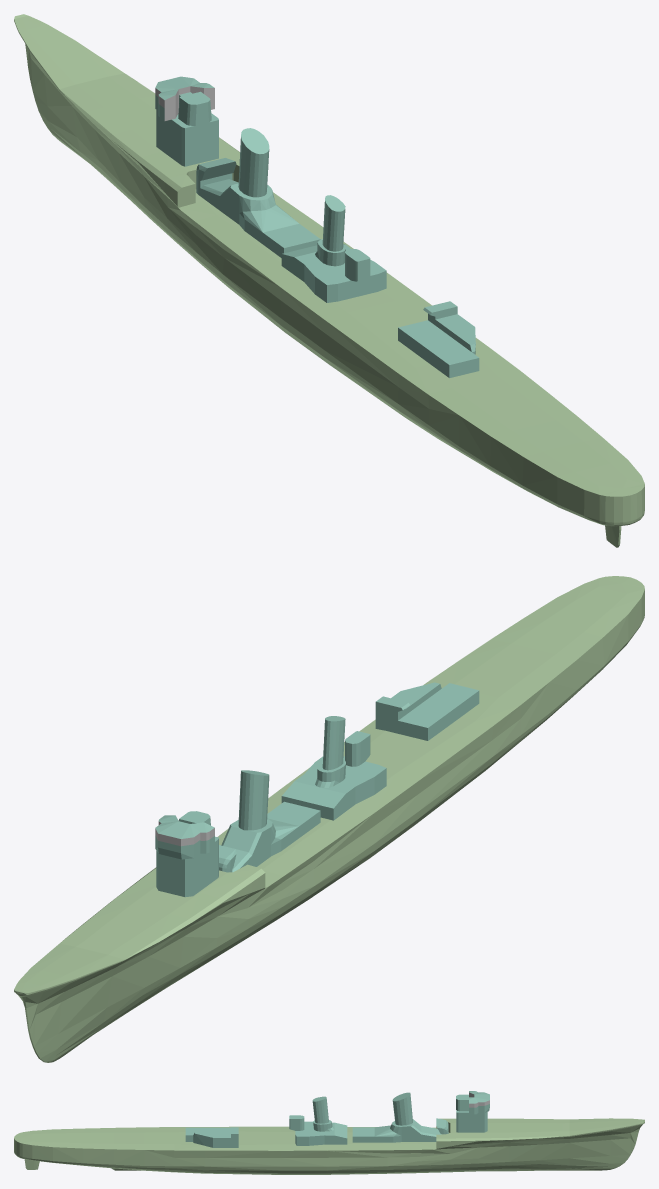
Rendered from PJSD207_armor.glb.
The picture shows the model from 3 angles, top to bottom: view 1: azimuth 30°, elevation 25°; view 2: azimuth 150°, elevation 25°; view 3: azimuth 270°, elevation 25°; orthographic projection. The views are drawn at different scales.
Visible parts, largest first — view 1: armor; view 2: armor; view 3: armor.
Boxes of the visible parts, left/top/right/bottom form: armor: left=14, top=14, right=644, bottom=547; armor: left=14, top=576, right=644, bottom=1062; armor: left=14, top=1091, right=644, bottom=1174.
Bounding box in the file's own units: 18.04 × 26.84 × 200.
